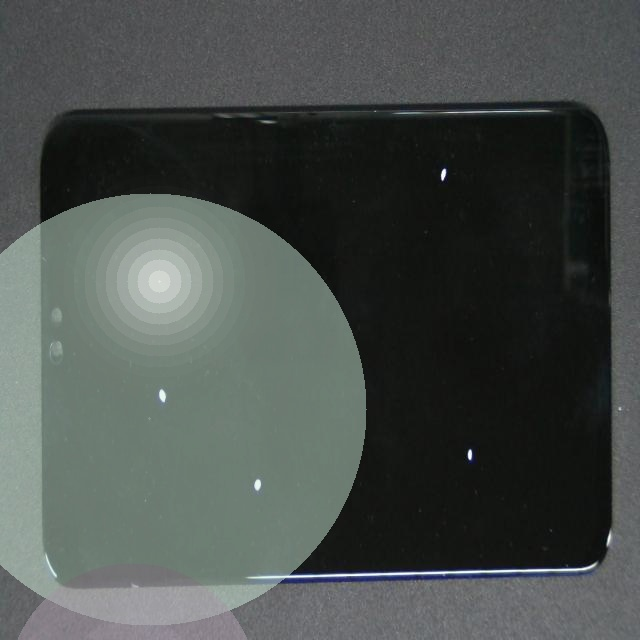stain: (247, 202, 640, 640), (141, 200, 382, 640), (229, 61, 640, 239), (78, 164, 228, 563)
